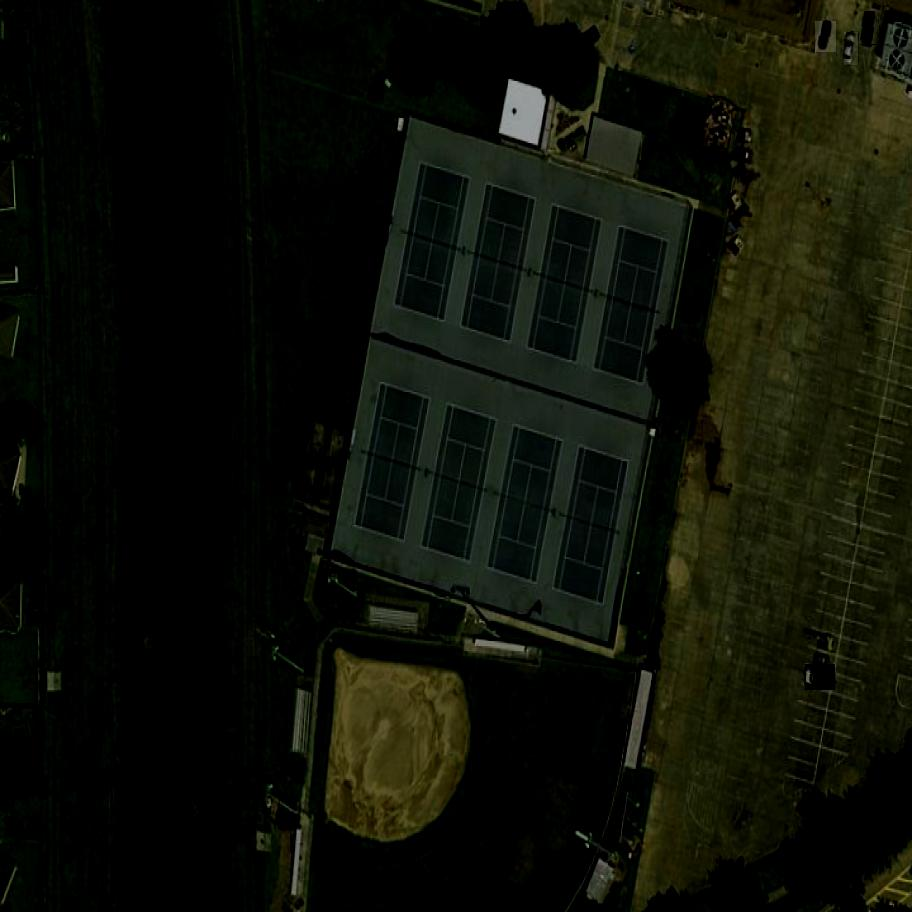small-vehicle: (802, 664, 838, 690), (815, 21, 837, 53), (860, 12, 876, 45), (844, 32, 859, 65)
